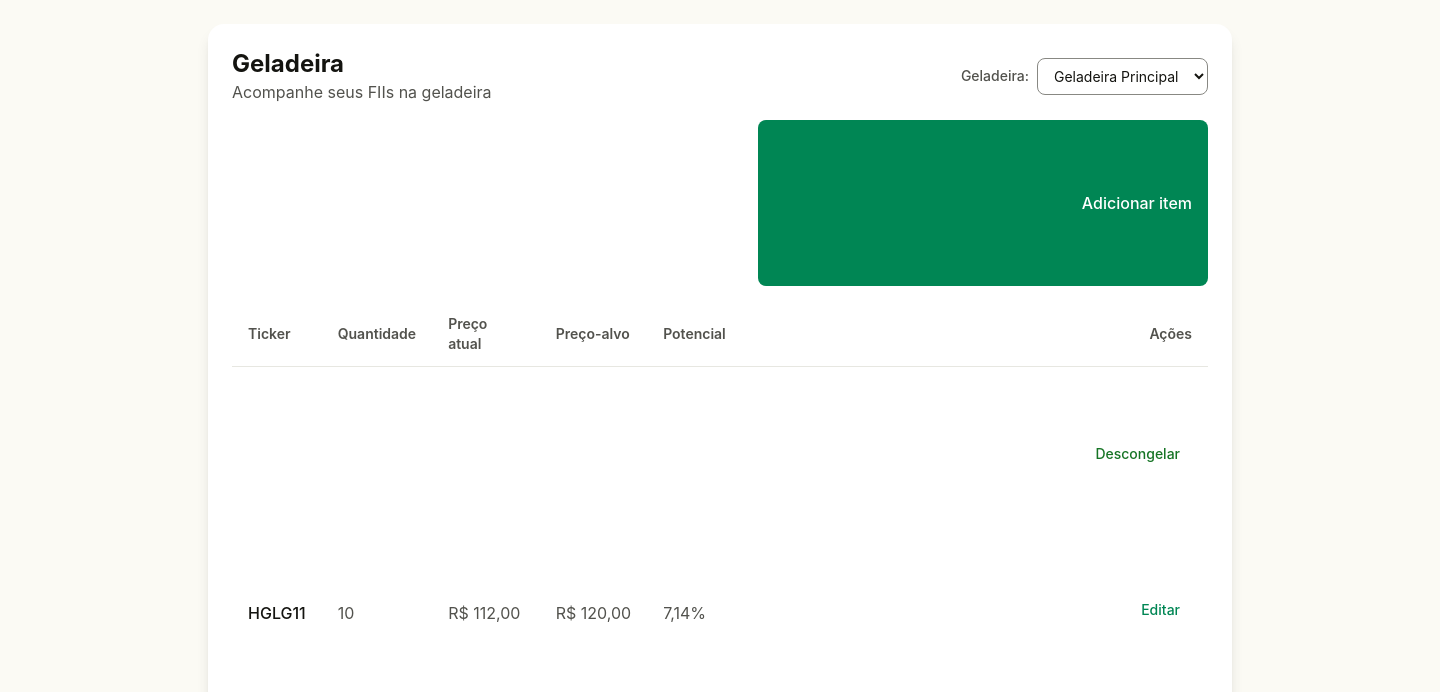
Test case: FridgeComponent › deve abrir modal de descongelar com carteira selecionada
Click the button with test id "btn-descongelar-item-0": (986, 454) [791,379,1180,529]
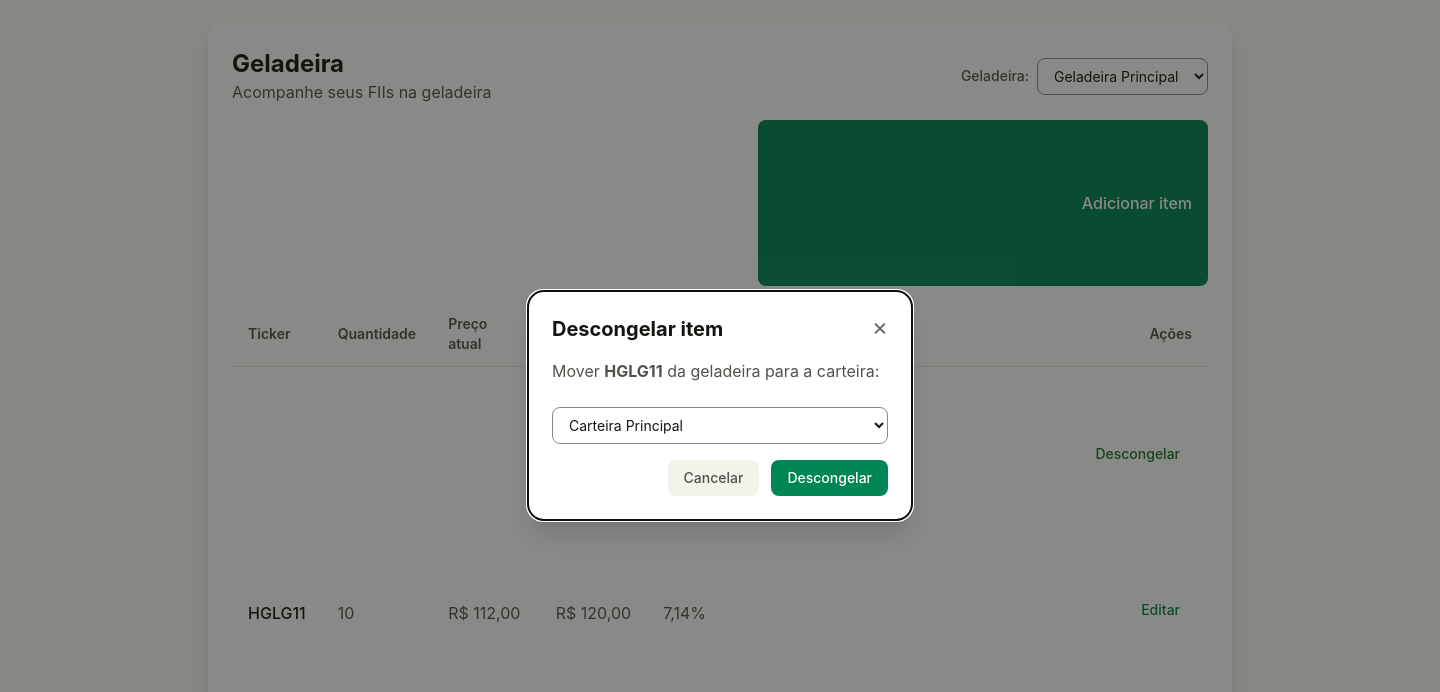
Expected: the dialog with test id "unfreeze-modal" is shown, [528,290,912,520]
Expected: the dialog with test id "unfreeze-modal" shows "HGLG11", [604,360,663,380]
Expected: the dropdown named "walletId" shows "Carteira Principal", [552,406,888,444]
